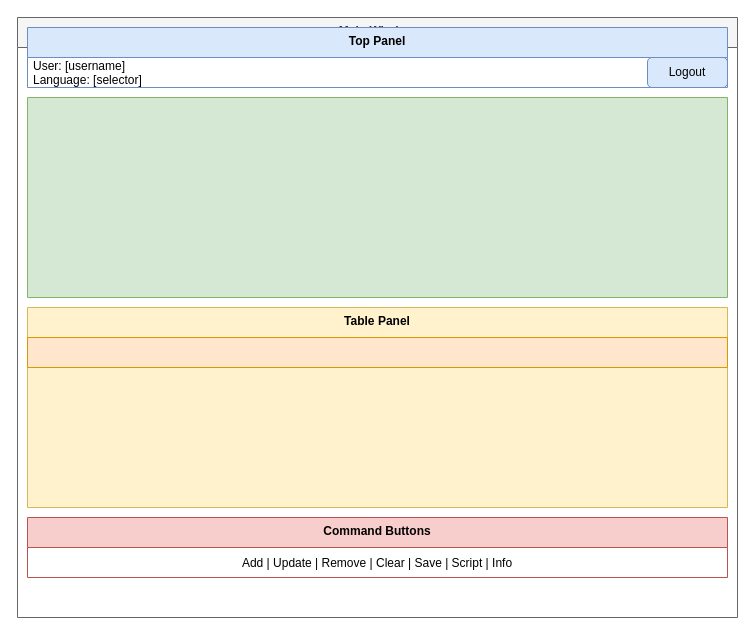
This 755x635 diagram has some shape labels left out. The box of each missing label's shape, as (x1, y1, x2, y2) in pixels:
Filter Panel: (26, 336, 728, 368)
Visualization Panel (Shows LabWork objects as circles): (26, 96, 728, 298)
